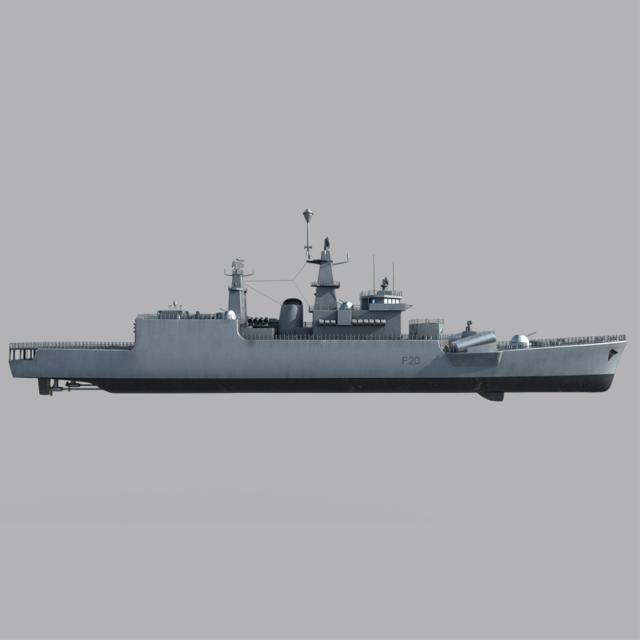Frigate-Godavari-Class-IND: (0, 205, 625, 408)
